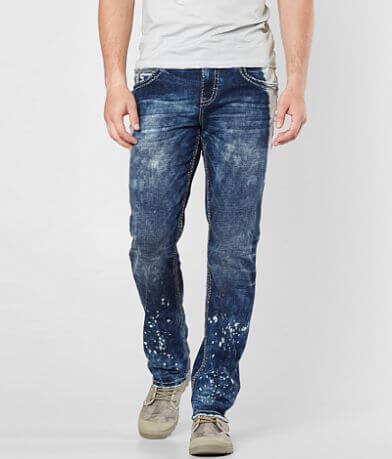jeans: (129, 67, 272, 421)
